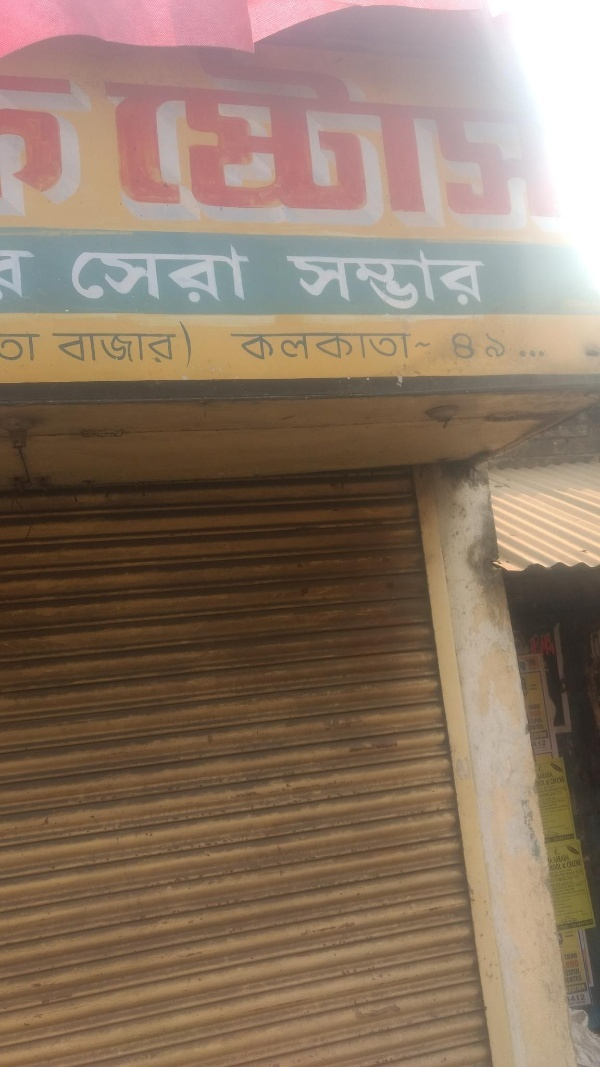text: (97, 36, 112, 242), (113, 36, 128, 242), (129, 36, 144, 242), (145, 36, 160, 242), (161, 36, 176, 242), (177, 36, 192, 242), (193, 36, 208, 242), (209, 36, 224, 242), (225, 36, 240, 242), (241, 36, 256, 242), (257, 36, 272, 242), (273, 36, 288, 242), (289, 36, 304, 242), (305, 36, 320, 242), (321, 36, 336, 242), (337, 36, 352, 242), (353, 36, 368, 242), (369, 36, 384, 242), (385, 36, 400, 242), (401, 36, 416, 242), (417, 36, 432, 242), (433, 36, 448, 242), (449, 36, 464, 242), (465, 36, 480, 242), (481, 36, 496, 242), (497, 36, 512, 242), (513, 36, 528, 242), (529, 36, 544, 242), (545, 36, 560, 242), (17, 61, 32, 227), (33, 61, 48, 227), (49, 61, 64, 227), (65, 61, 80, 227), (81, 61, 96, 227), (561, 36, 571, 242), (7, 61, 16, 227), (289, 250, 304, 311), (305, 250, 320, 311), (321, 250, 336, 311), (337, 250, 352, 311), (353, 250, 368, 311), (369, 250, 384, 311), (385, 250, 400, 311), (401, 250, 416, 311), (417, 250, 432, 311), (433, 250, 448, 311), (449, 250, 464, 311), (465, 250, 480, 311), (81, 247, 96, 306), (97, 247, 112, 306), (113, 247, 128, 306), (129, 247, 144, 306), (145, 247, 160, 306), (161, 247, 176, 306), (177, 247, 192, 306), (193, 247, 208, 306), (209, 247, 224, 306), (225, 247, 240, 306), (1, 249, 16, 302), (17, 249, 32, 302), (97, 61, 101, 227), (179, 319, 192, 370), (241, 247, 252, 306), (161, 332, 177, 363), (65, 332, 80, 363), (81, 332, 96, 363), (97, 332, 112, 363), (113, 332, 128, 363), (129, 332, 144, 363), (145, 332, 160, 363), (1, 333, 16, 363), (17, 333, 32, 363), (417, 333, 433, 361), (241, 333, 256, 361), (257, 333, 272, 361), (273, 333, 288, 361), (289, 333, 304, 361), (305, 333, 320, 361), (321, 333, 336, 361), (337, 333, 352, 361), (353, 333, 368, 361), (369, 333, 384, 361), (385, 333, 400, 361), (401, 333, 416, 361), (52, 332, 64, 363), (74, 247, 80, 306), (483, 332, 496, 358), (33, 333, 44, 363), (452, 332, 464, 359), (465, 332, 476, 359), (230, 333, 240, 361), (284, 250, 288, 311), (481, 250, 485, 311), (33, 249, 37, 302), (497, 332, 505, 358), (193, 319, 194, 370)
